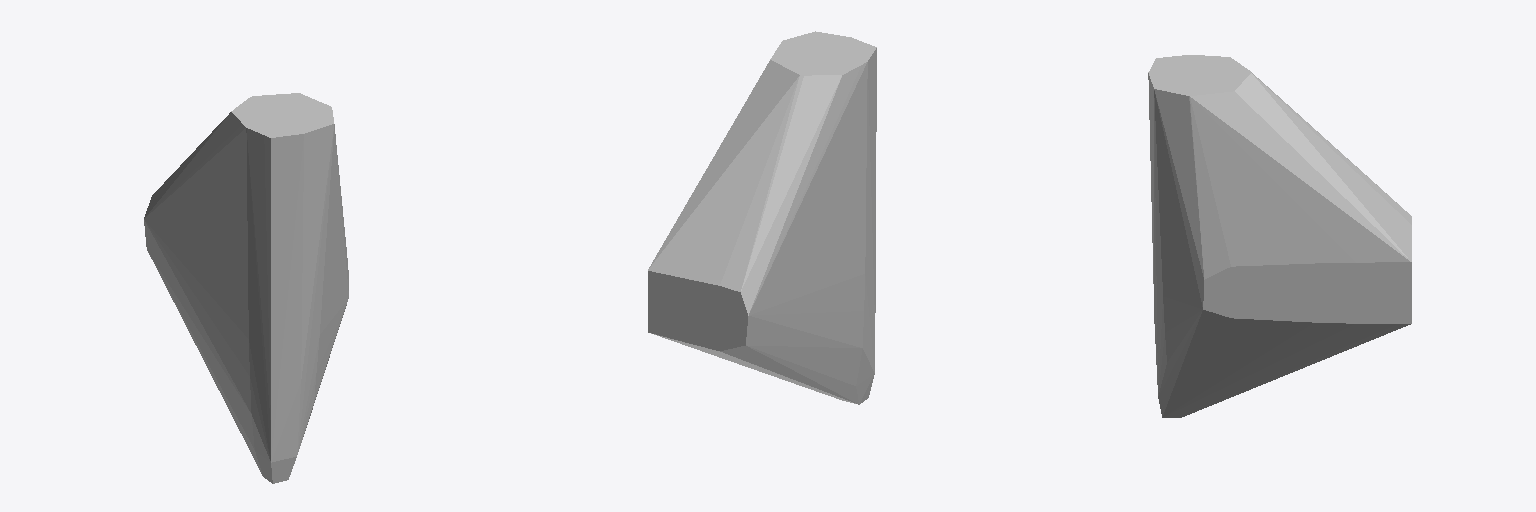
File: sofa_collision_25.obj
3 views of the same model, side by side, from view 1: azimuth 30°, elevation 25°; view 2: azimuth 150°, elevation 25°; view 3: azimuth 270°, elevation 25° (orthographic).
Bounding box in the file's own units: 28.35 × 86.63 × 59.17.